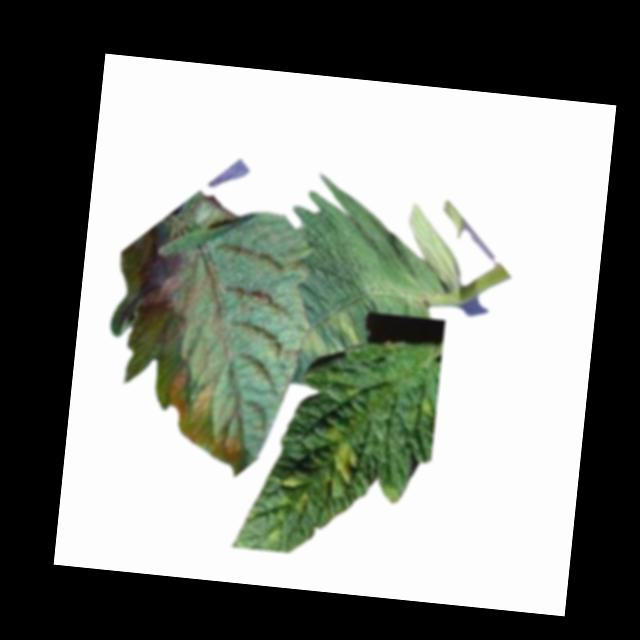Leaf_Mold: (155, 359, 252, 470), (298, 305, 361, 362), (315, 421, 363, 495), (276, 468, 316, 520)
